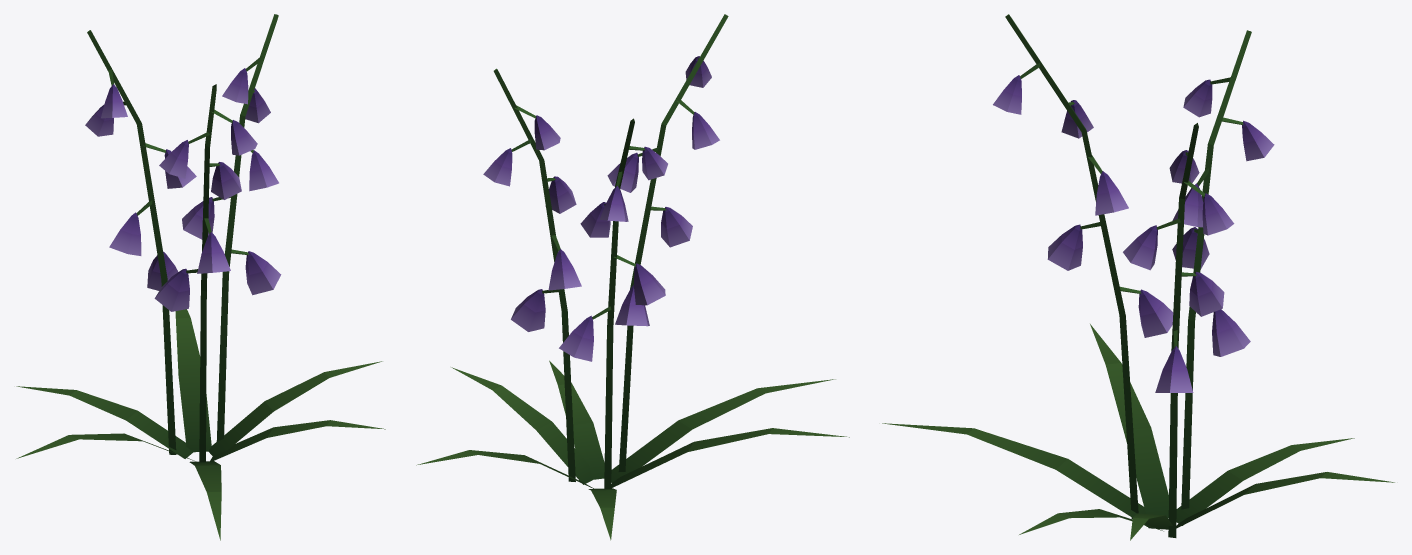
File: flowers_bluebell_a.glb
3 views of the same model, side by side, from view 1: azimuth 30°, elevation 25°; view 2: azimuth 150°, elevation 25°; view 3: azimuth 270°, elevation 25° (orthographic). The views are drawn at different scales.
Parts seen in each view (by area): view 1: flowers_bluebell_a; view 2: flowers_bluebell_a; view 3: flowers_bluebell_a.
Part boxes in pixels (<box>): flowers_bluebell_a: <box>16,14,385,540</box>; flowers_bluebell_a: <box>416,14,849,540</box>; flowers_bluebell_a: <box>882,14,1394,540</box>.
Size of the model in its own units: 0.3959 by 0.4275 by 0.4187.
